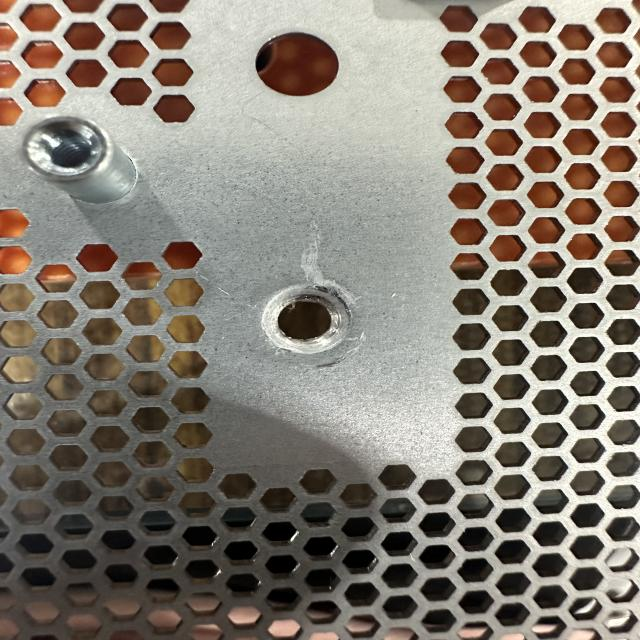Missing screw: (247, 277, 372, 364)
